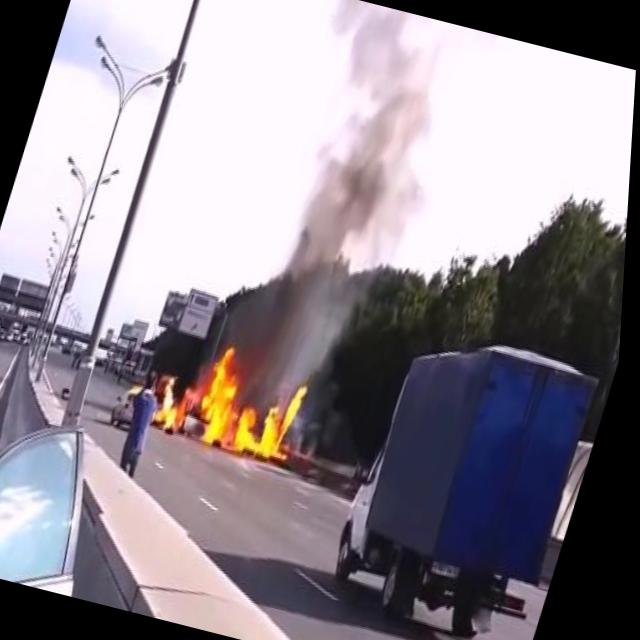fire: (191, 341, 325, 472), (154, 372, 202, 432)
